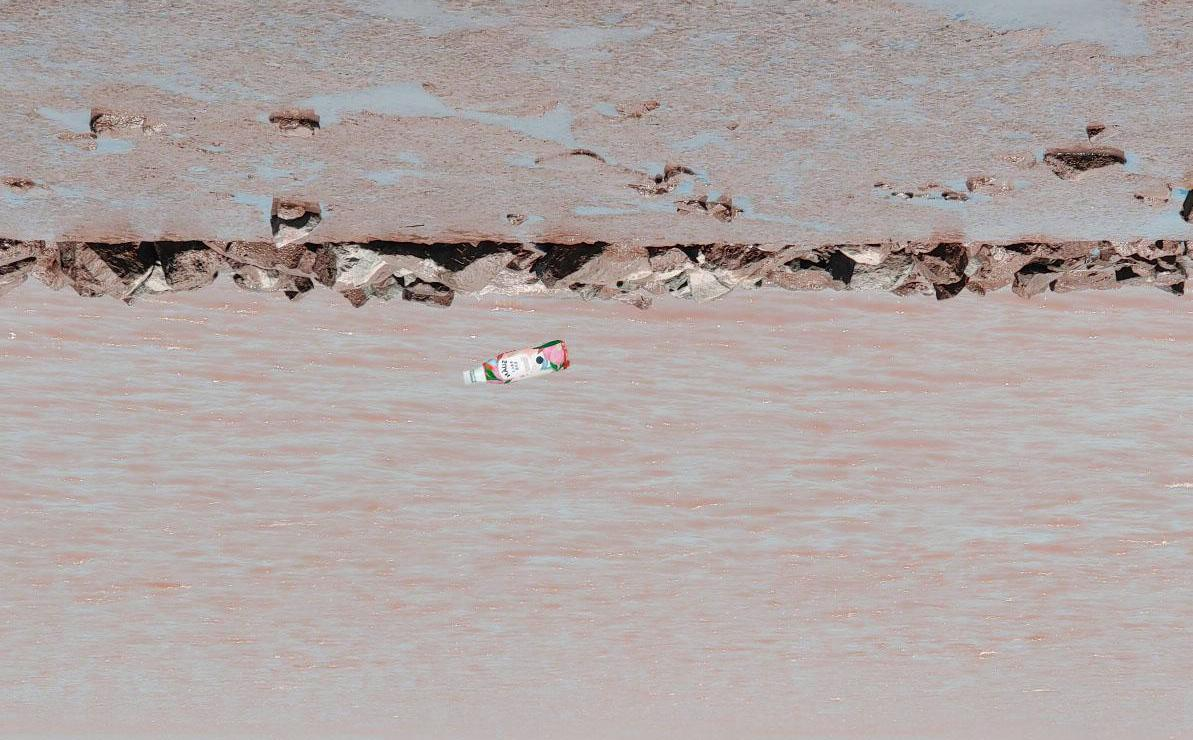Plastic: (459, 337, 573, 388)
